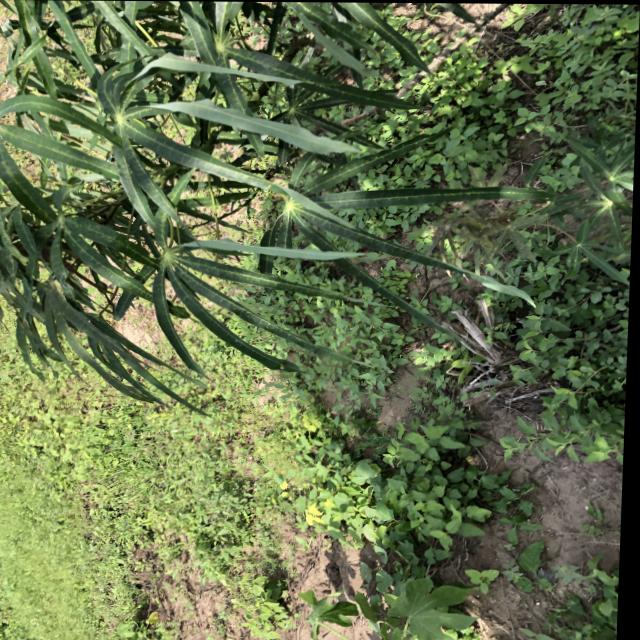Maleza: (102, 430, 464, 625), (4, 388, 160, 636), (442, 7, 630, 163), (349, 385, 516, 529), (295, 528, 491, 640), (532, 308, 640, 430)
Mosca: (162, 245, 188, 284), (140, 267, 162, 285)
